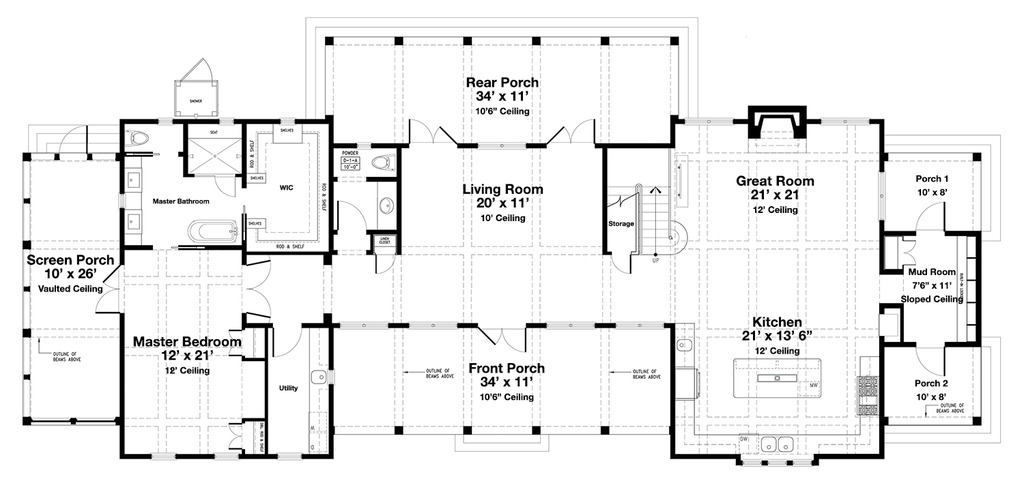door: (241, 259, 272, 319), (478, 318, 529, 353), (404, 116, 458, 147), (544, 118, 597, 147), (95, 265, 123, 316), (333, 201, 372, 236), (915, 343, 951, 378), (268, 325, 303, 357), (915, 200, 946, 234), (177, 55, 213, 84), (211, 174, 237, 198), (606, 252, 633, 274), (373, 253, 393, 276), (229, 421, 244, 450)
kitchen_bar: (732, 357, 821, 402)
large_sink: (124, 130, 150, 150)
small_sink: (123, 207, 144, 237), (122, 167, 143, 193)
stairs: (635, 185, 677, 258)
tub: (185, 216, 237, 244)
windows: (815, 114, 872, 128), (406, 320, 460, 334), (333, 320, 391, 333), (679, 116, 736, 127), (875, 170, 886, 223)
